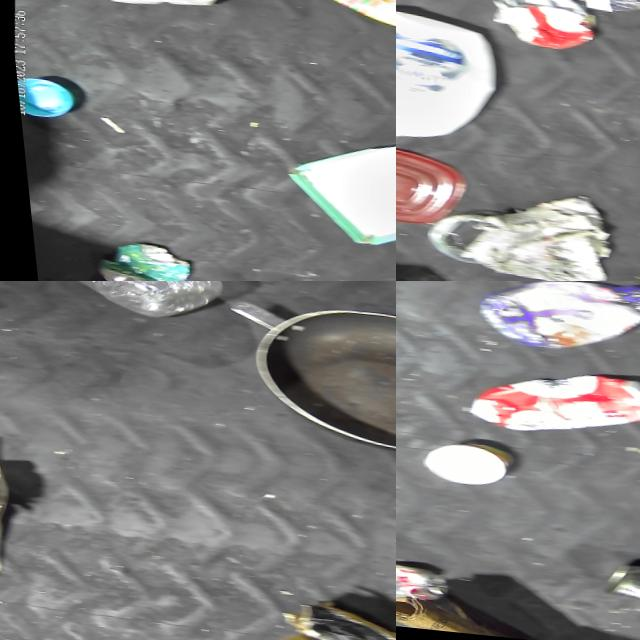can: (474, 0, 596, 53), (75, 237, 183, 281), (583, 557, 640, 607), (396, 559, 426, 606)
milk_jug: (396, 0, 499, 150)
non_white_jug: (444, 360, 640, 443), (472, 281, 640, 358), (278, 0, 396, 34)
plastic_bottle: (18, 281, 227, 324)
